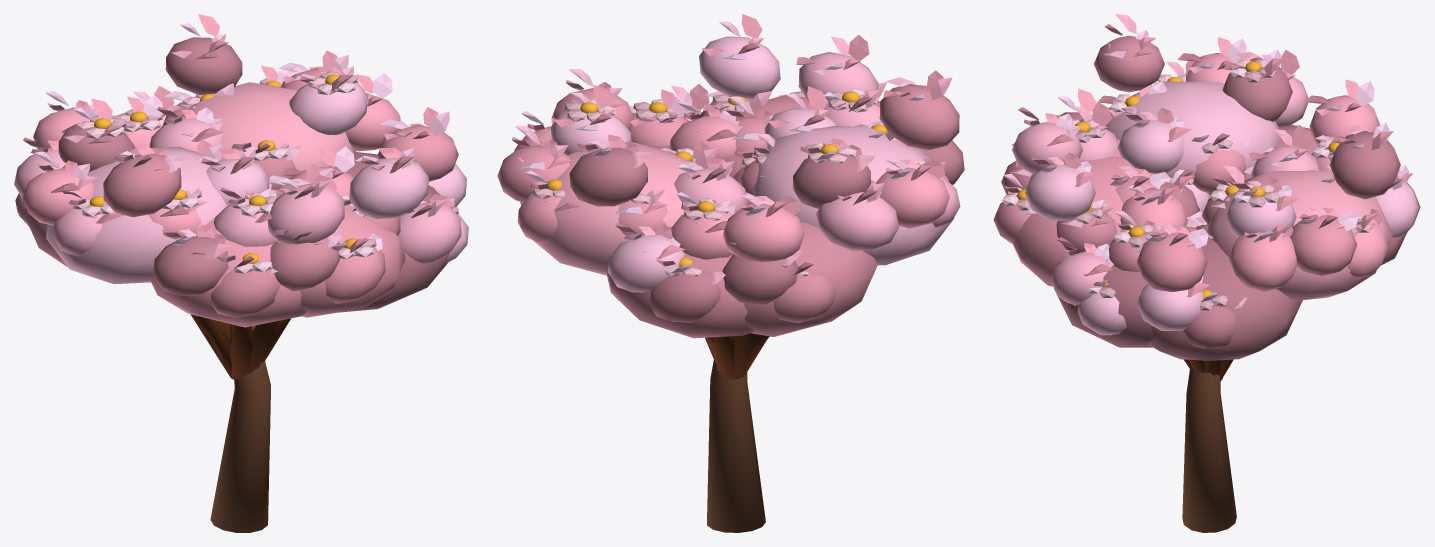
Rendered from pink-tree.glb.
3 views of the same model, side by side, from view 1: azimuth 30°, elevation 25°; view 2: azimuth 150°, elevation 25°; view 3: azimuth 270°, elevation 25° (orthographic). The views are drawn at different scales.
Parts seen in each view (by area): view 1: canopy, pink-tree; view 2: canopy, pink-tree; view 3: canopy, pink-tree.
Boxes of the visible parts, box(x1,y1,x2,y2) form: canopy: box(14, 14, 468, 327); pink-tree: box(190, 314, 290, 532); canopy: box(497, 14, 964, 338); pink-tree: box(705, 333, 769, 532); canopy: box(993, 14, 1420, 360); pink-tree: box(1182, 359, 1236, 532).
Size of the model in its own units: 5.4 by 5.55 by 5.
